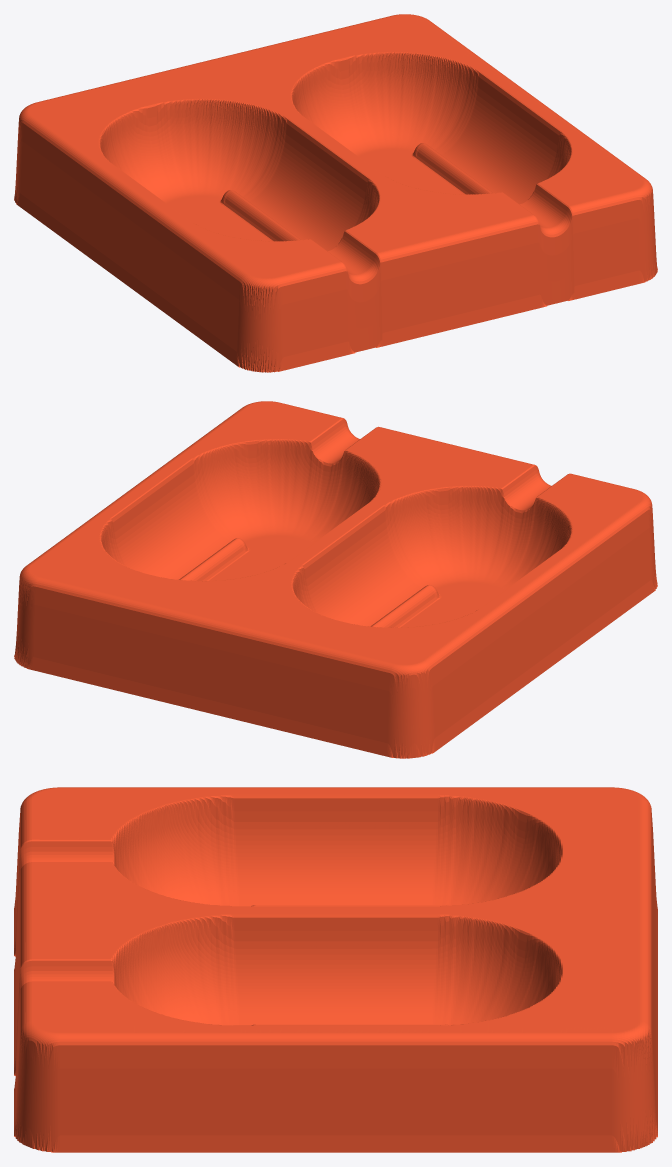
The model's file is mold.glb.
3 renders of one model, top to bottom at view 1: azimuth 30°, elevation 25°; view 2: azimuth 150°, elevation 25°; view 3: azimuth 270°, elevation 25°, orthographic. The views are drawn at different scales.
Visible parts, largest first — view 1: geometry_0; view 2: geometry_0; view 3: geometry_0.
Part boxes in pixels (x1,y1,x2,y2): geometry_0: [14, 14, 657, 372]; geometry_0: [14, 401, 657, 758]; geometry_0: [14, 787, 657, 1152].
Size of the model in its own units: 0.1217 by 0.0245 by 0.1276.
